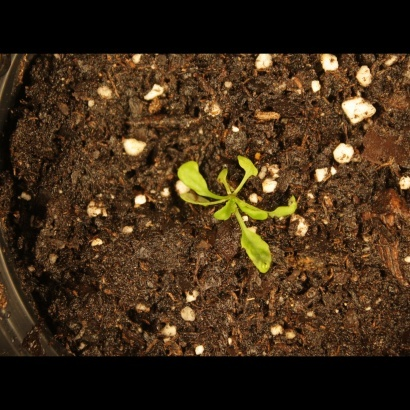leaf: (233, 224, 276, 287), (172, 155, 212, 197), (266, 193, 305, 221), (233, 196, 272, 223), (231, 152, 264, 182), (176, 190, 213, 213), (213, 196, 236, 225), (211, 165, 234, 188)
